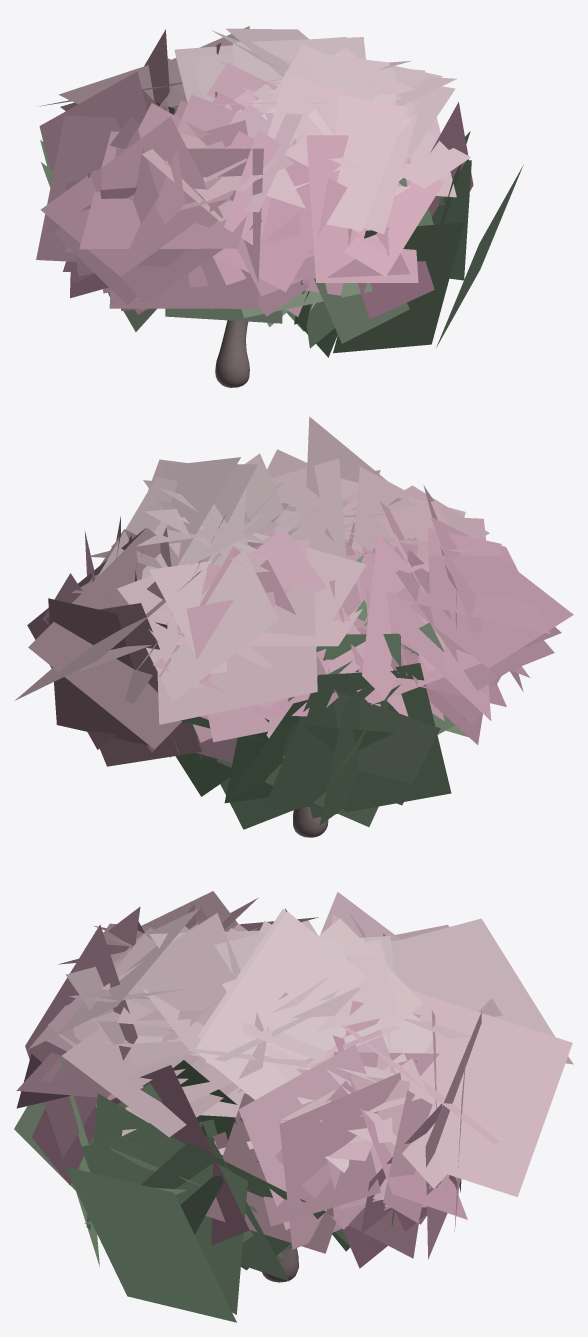
File: b_wild_cherry.glb
The picture shows the model from 3 angles, top to bottom: view 1: azimuth 30°, elevation 25°; view 2: azimuth 150°, elevation 25°; view 3: azimuth 270°, elevation 25°; orthographic projection. The views are drawn at different scales.
Parts seen in each view (by area): view 1: near; view 2: near; view 3: near.
Part boxes in pixels (x1,y1,x2,y2): near: (36, 26, 523, 387); near: (15, 416, 573, 837); near: (14, 891, 573, 1322).
Size of the model in its own units: 11.78 by 8.9 by 11.17.
